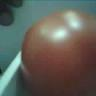tomato: (19, 8, 96, 96)
